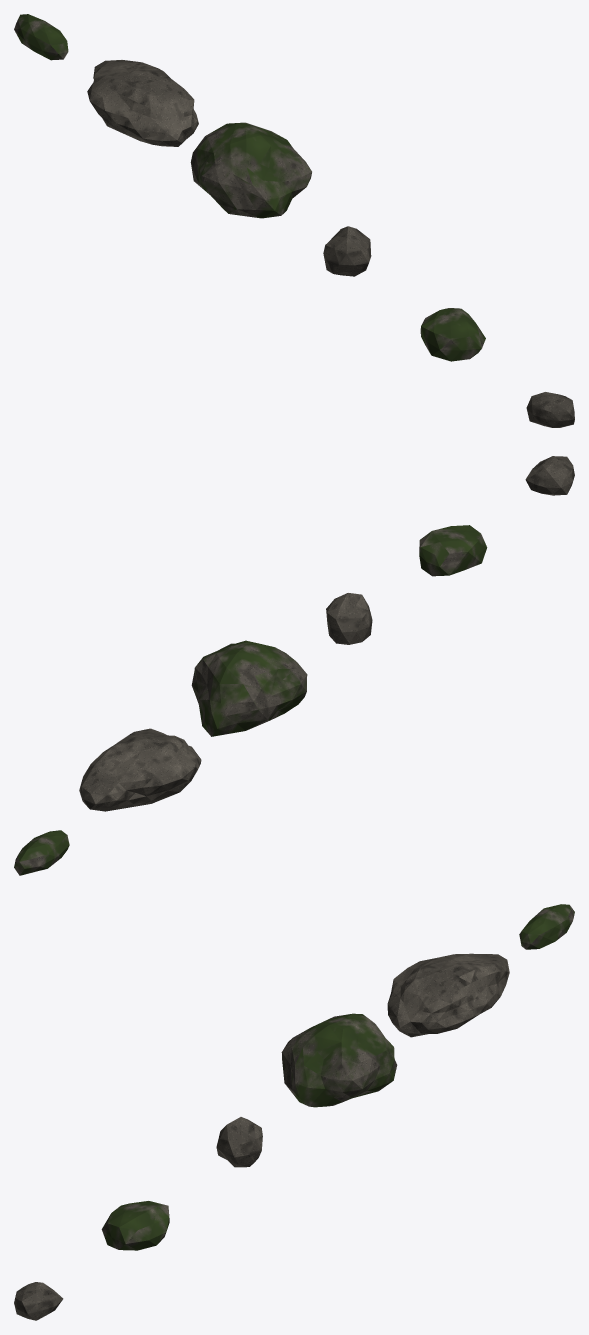
The model's file is stones.glb.
3 views of the same model, one above another, from view 1: azimuth 30°, elevation 25°; view 2: azimuth 150°, elevation 25°; view 3: azimuth 330°, elevation 25° (orthographic).
Visible parts, largest first — view 1: stone04_lod0, stone05_lod0, stone02_lod0, stone03_lod0, stone06_lod0, stone01_lod0; view 2: stone04_lod0, stone05_lod0, stone02_lod0, stone03_lod0, stone06_lod0, stone01_lod0; view 3: stone04_lod0, stone05_lod0, stone02_lod0, stone03_lod0, stone06_lod0, stone01_lod0.
Part boxes in pixels (left/top/right/bottom): stone04_lod0: left=190, top=122, right=311, bottom=218; stone05_lod0: left=87, top=60, right=198, bottom=146; stone02_lod0: left=420, top=308, right=485, bottom=361; stone03_lod0: left=323, top=226, right=371, bottom=276; stone06_lod0: left=14, top=14, right=68, bottom=60; stone01_lod0: left=526, top=392, right=574, bottom=427; stone04_lod0: left=191, top=640, right=307, bottom=736; stone05_lod0: left=79, top=728, right=201, bottom=811; stone02_lod0: left=419, top=525, right=487, bottom=576; stone03_lod0: left=326, top=593, right=372, bottom=644; stone06_lod0: left=14, top=830, right=69, bottom=875; stone01_lod0: left=525, top=456, right=574, bottom=495; stone04_lod0: left=281, top=1013, right=397, bottom=1107; stone05_lod0: left=387, top=953, right=509, bottom=1037; stone02_lod0: left=101, top=1201, right=169, bottom=1250; stone03_lod0: left=216, top=1117, right=262, bottom=1167; stone06_lod0: left=519, top=904, right=574, bottom=949; stone01_lod0: left=14, top=1282, right=63, bottom=1320.
Size of what is drawn, in the model's own units: 2.17 by 1.48 by 21.46.
Materials: 2 (2 with a texture image).
